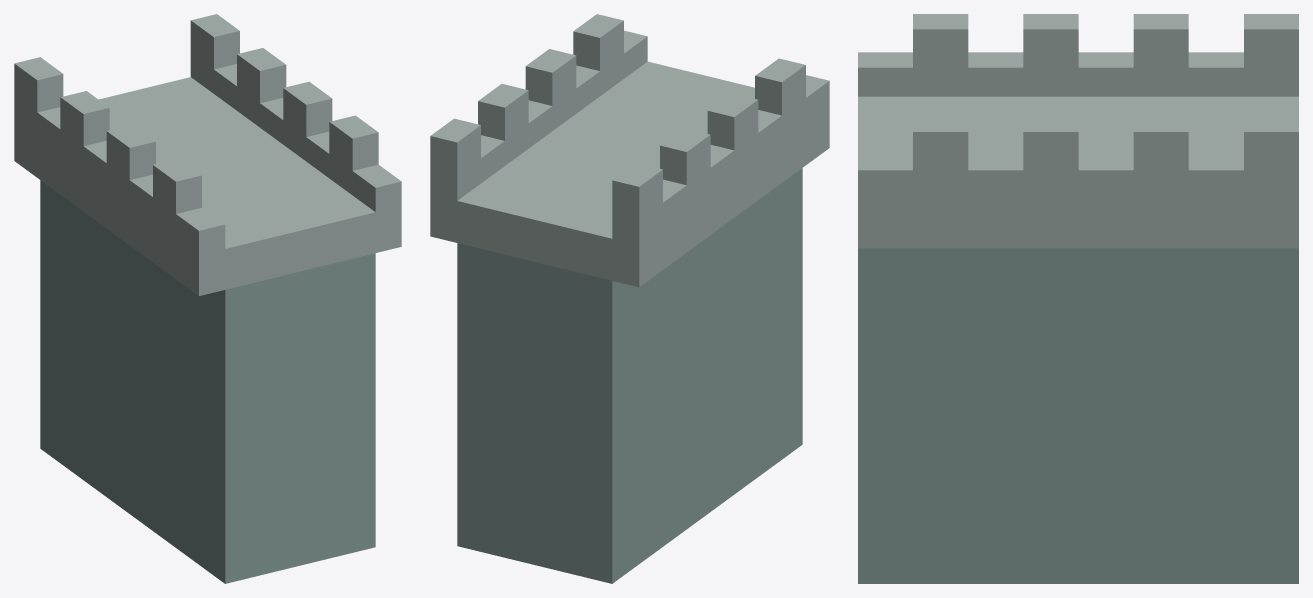
Rendered from Wall 1.fbx.
The picture shows the model from 3 angles, left to right: view 1: azimuth 30°, elevation 25°; view 2: azimuth 150°, elevation 25°; view 3: azimuth 270°, elevation 25°; orthographic projection. The views are drawn at different scales.
Parts seen in each view (by area): view 1: Cube.001; view 2: Cube.001; view 3: Cube.001.
Part boxes in pixels (x1,y1,x2,y2): Cube.001: (14,14,401,583); Cube.001: (430,14,829,583); Cube.001: (858,14,1298,583).
Bounding box in the file's own units: 131 × 242 × 207.
